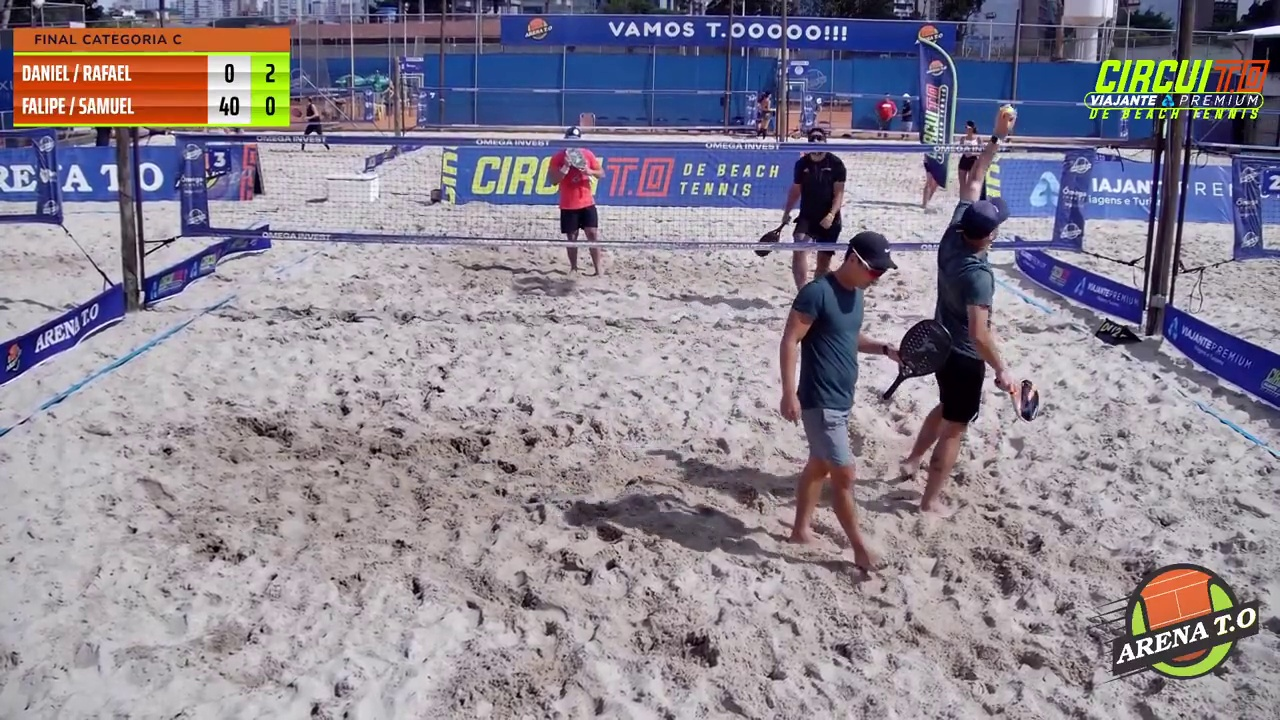court_line: (642, 0, 799, 275)
